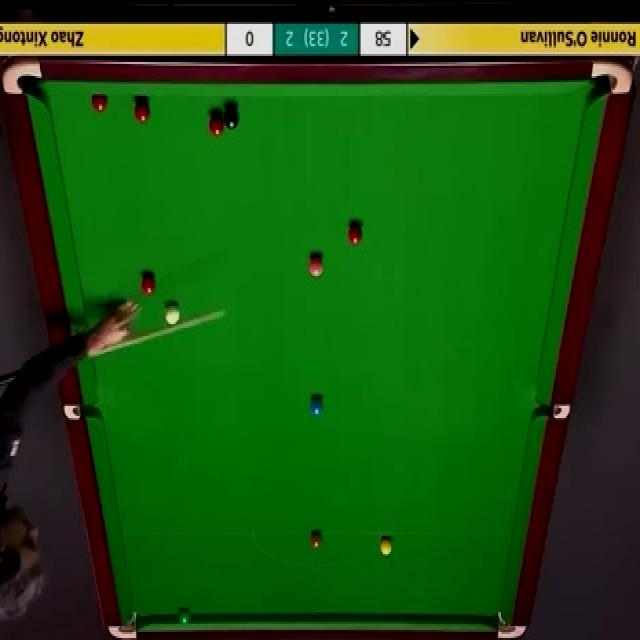black-ball: (223, 107, 240, 129)
blue-ball: (309, 394, 323, 416)
brown-ball: (310, 532, 322, 552)
green-ball: (180, 610, 190, 628)
pink-ball: (310, 255, 322, 278)
red-ball: (133, 100, 151, 125), (208, 110, 225, 136), (347, 220, 363, 245), (142, 271, 156, 296), (91, 95, 108, 112)
white-ball: (165, 303, 182, 326)
yellow-ball: (381, 538, 393, 554)
